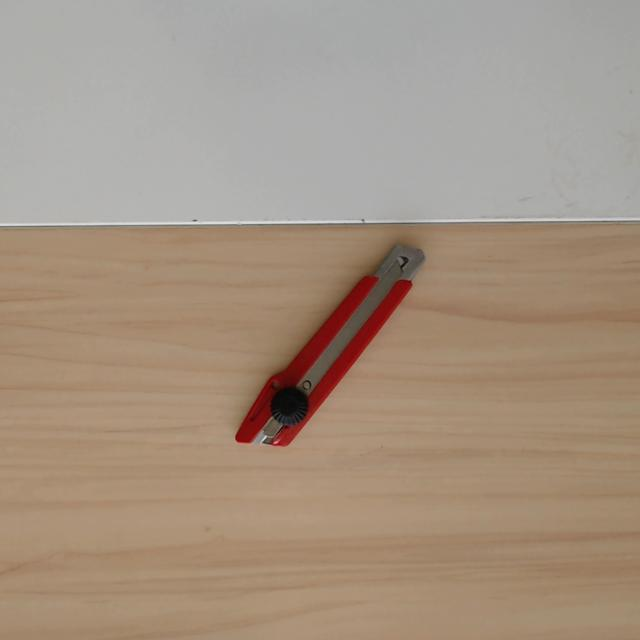Cutter-Besar: (227, 225, 436, 471)
